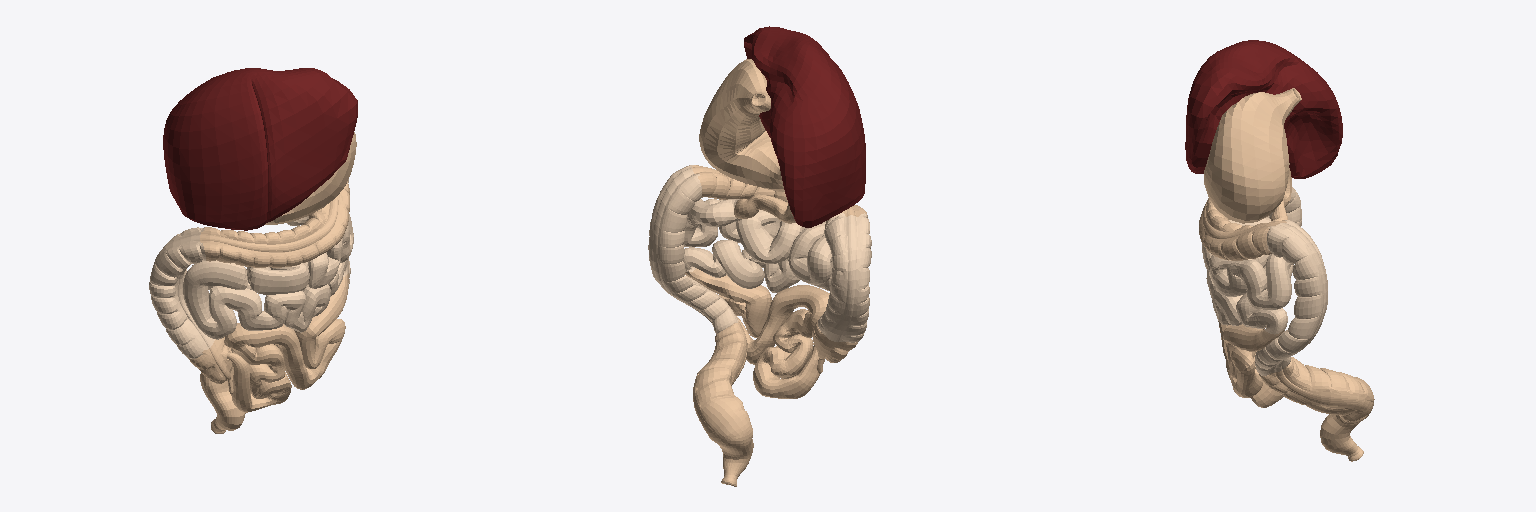
File: digestive.obj
3 renders of one model, left to right at view 1: azimuth 30°, elevation 25°; view 2: azimuth 150°, elevation 25°; view 3: azimuth 270°, elevation 25°, orthographic.
Visible parts, largest first — view 1: Object__2, Object__3, Object__1, Object__4; view 2: Object__3, Object__1, Object__2, Object__4; view 3: Object__1, Object__2, Object__4, Object__3.
Boxes of the visible parts, x1=… form: Object__2: x1=163, y1=68, x2=357, y2=230; Object__3: x1=183, y1=214, x2=353, y2=412; Object__1: x1=149, y1=179, x2=350, y2=433; Object__4: x1=265, y1=132, x2=356, y2=224; Object__3: x1=683, y1=194, x2=833, y2=398; Object__1: x1=648, y1=165, x2=871, y2=486; Object__2: x1=744, y1=26, x2=865, y2=227; Object__4: x1=699, y1=59, x2=784, y2=191; Object__1: x1=1199, y1=187, x2=1374, y2=461; Object__2: x1=1185, y1=40, x2=1342, y2=178; Object__4: x1=1204, y1=88, x2=1301, y2=223; Object__3: x1=1202, y1=168, x2=1291, y2=407.
Bounding box in the file's own units: 1.85 × 3.51 × 1.48.